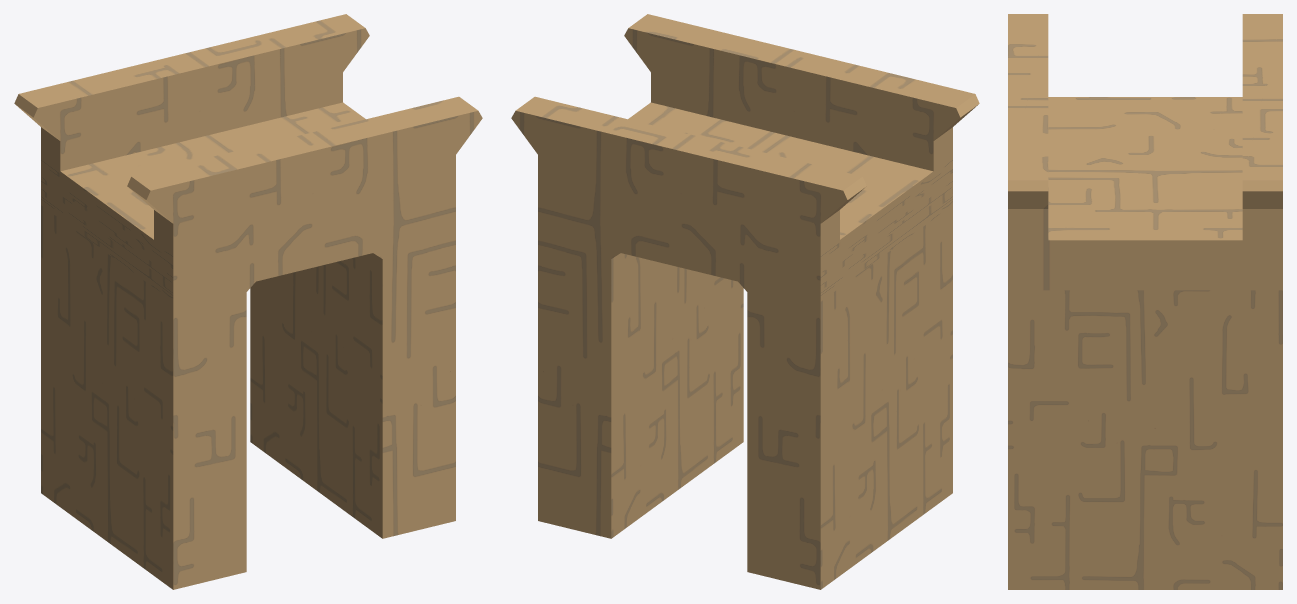
The model's file is Mesh_ArchwayWall2.glb.
3 views of the same model, side by side, from view 1: azimuth 30°, elevation 25°; view 2: azimuth 150°, elevation 25°; view 3: azimuth 270°, elevation 25° (orthographic). The views are drawn at different scales.
Parts seen in each view (by area): view 1: Cube.059; view 2: Cube.059; view 3: Cube.059.
Part boxes in pixels (x1,y1,x2,y2): Cube.059: (14, 14, 482, 589); Cube.059: (511, 14, 979, 589); Cube.059: (1008, 14, 1282, 589).
Bounding box in the file's own units: 19.45 × 22.36 × 13.24.
Materials: 1 (1 with a texture image).
